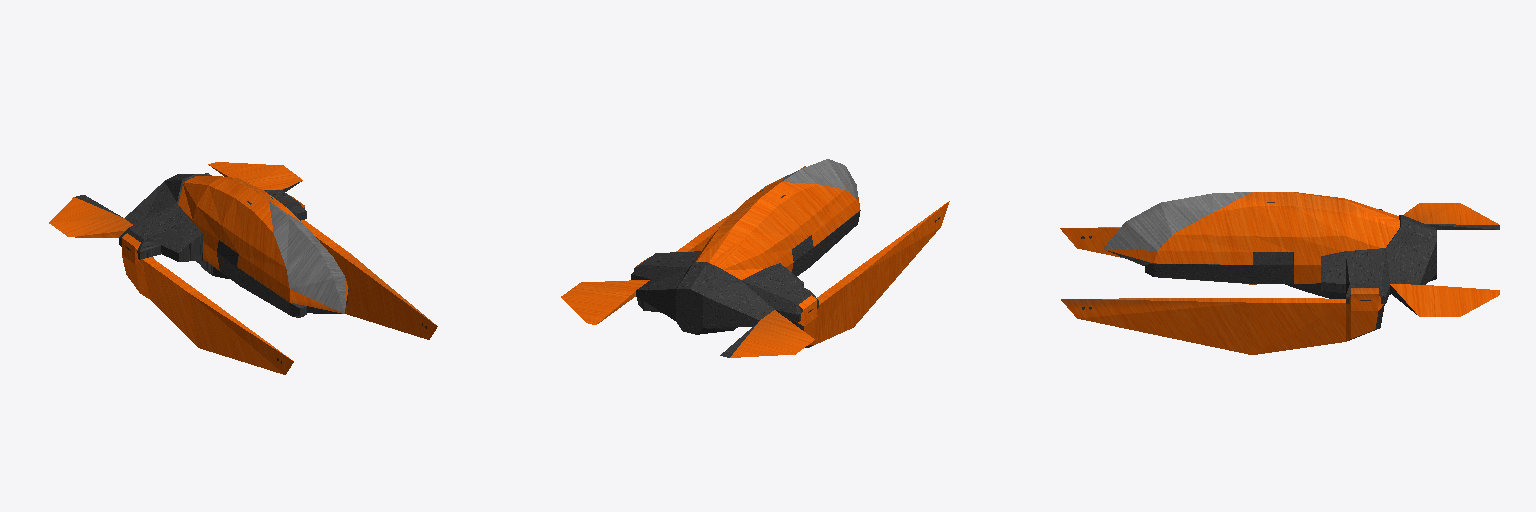
The picture shows the model from 3 angles: view 1: azimuth 30°, elevation 25°; view 2: azimuth 150°, elevation 25°; view 3: azimuth 270°, elevation 25°; orthographic projection.
Visible parts, largest first — view 1: turret_x_1; view 2: turret_x_1; view 3: turret_x_1.
Boxes of the visible parts, x1,y1,x2,y2 form: turret_x_1: [49, 162, 437, 374]; turret_x_1: [561, 159, 949, 357]; turret_x_1: [1060, 192, 1499, 354].
Size of the model in its own units: 2.92 by 1.52 by 4.73.
Materials: 1 (1 with a texture image).